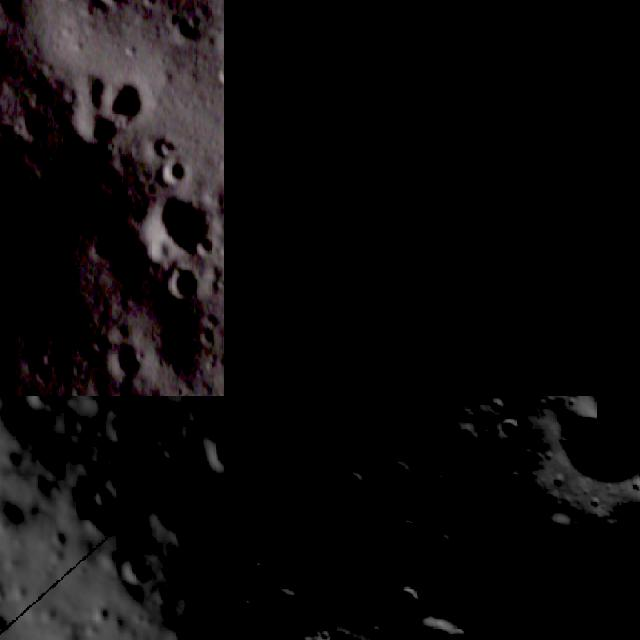crater: (337, 109, 479, 252), (393, 42, 490, 138), (132, 190, 222, 265), (230, 313, 302, 387), (426, 0, 543, 42), (0, 274, 39, 394), (321, 258, 389, 324), (579, 105, 640, 176), (478, 224, 544, 289), (574, 244, 636, 304), (89, 66, 147, 125), (403, 601, 482, 640), (154, 258, 205, 316), (479, 188, 533, 242), (372, 451, 426, 505), (100, 330, 150, 384), (440, 418, 490, 469), (113, 540, 155, 600), (539, 356, 600, 396), (224, 96, 252, 179), (310, 95, 357, 143), (472, 530, 518, 576), (382, 13, 427, 57), (290, 102, 333, 145), (383, 228, 424, 270), (493, 404, 534, 446), (386, 513, 428, 554), (552, 292, 592, 332), (265, 580, 305, 620), (324, 55, 363, 94), (389, 580, 428, 619), (372, 36, 409, 74), (297, 0, 352, 25), (470, 118, 503, 152), (263, 0, 314, 21), (267, 112, 299, 144), (75, 0, 141, 15), (206, 420, 224, 475), (244, 551, 274, 580), (483, 396, 510, 421)
